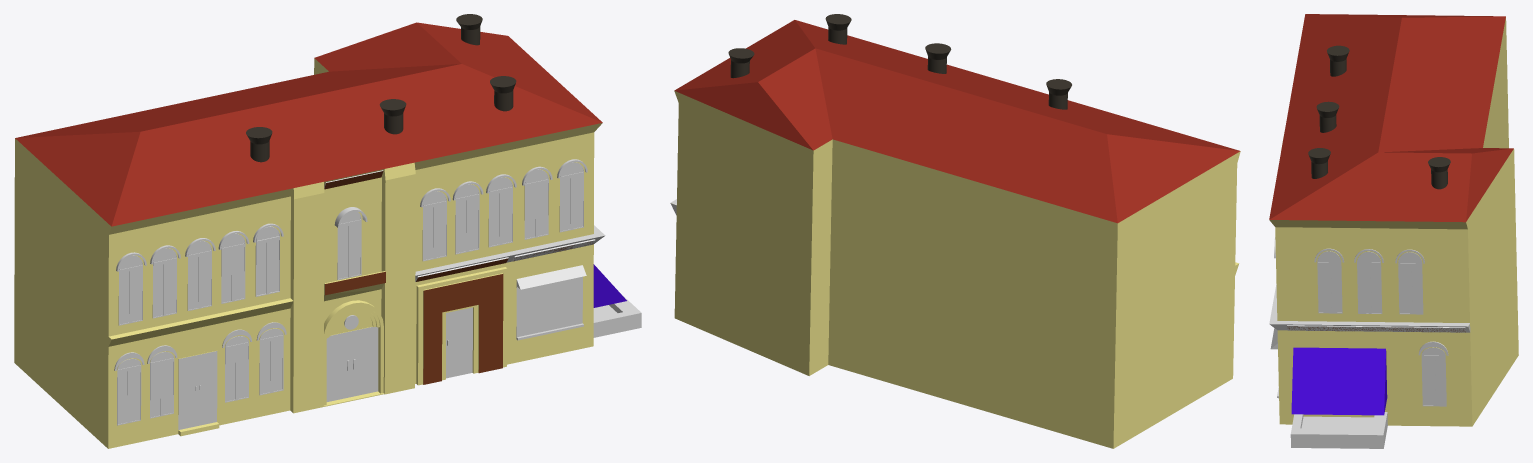
The model's file is hotel_moskva2.fbx.
3 views of the same model, side by side, from view 1: azimuth 30°, elevation 25°; view 2: azimuth 150°, elevation 25°; view 3: azimuth 270°, elevation 25° (orthographic). The views are drawn at different scales.
Parts seen in each view (by area): view 1: SketchUp, SketchUp.001, SketchUp.214, SketchUp.202, SketchUp.207, SketchUp.197, SketchUp.203, SketchUp.212, SketchUp.024, SketchUp.209, SketchUp.211, SketchUp.140 (+4 smaller); view 2: SketchUp, SketchUp.001, SketchUp.002, SketchUp.004, SketchUp.006, SketchUp.007; view 3: SketchUp.001, SketchUp, SketchUp.211, SketchUp.212, SketchUp.024, SketchUp.146, SketchUp.007, SketchUp.004, SketchUp.006, SketchUp.002, SketchUp.048, SketchUp.164 (+10 smaller).
Part boxes in pixels (x1,y1,x2,y2): SketchUp: (14,58,602,448); SketchUp.001: (15,22,602,226); SketchUp.214: (423,274,503,384); SketchUp.202: (326,327,378,401); SketchUp.207: (516,276,582,337); SketchUp.197: (178,351,217,429); SketchUp.203: (446,307,472,378); SketchUp.212: (593,295,641,337); SketchUp.024: (415,225,605,279); SketchUp.209: (516,265,586,289); SketchUp.211: (593,264,626,307); SketchUp.140: (325,271,385,295); SketchUp: (674,91,1240,448); SketchUp.001: (674,20,1240,223); SketchUp.002: (825,14,851,44); SketchUp.004: (925,43,951,73); SketchUp.006: (1046,79,1071,109); SketchUp.007: (728,48,754,78); SketchUp.001: (1269,14,1513,222); SketchUp: (1269,18,1518,426); SketchUp.211: (1291,347,1387,415); SketchUp.212: (1290,412,1387,448); SketchUp.024: (1269,284,1469,332); SketchUp.146: (1287,326,1465,332); SketchUp.007: (1428,157,1450,189); SketchUp.004: (1316,101,1339,132); SketchUp.006: (1327,45,1349,76); SketchUp.002: (1308,148,1330,178); SketchUp.048: (1411,266,1422,313); SketchUp.164: (1422,358,1433,405).
Size of the model in its own units: 285 by 142 by 128.
